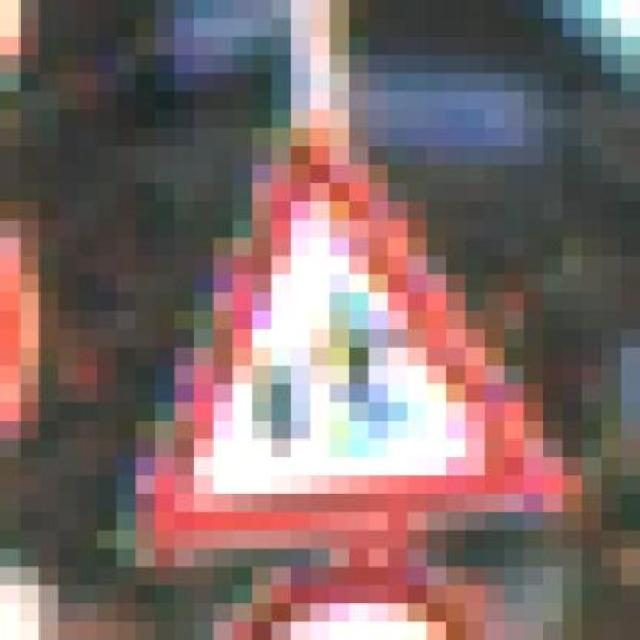Beware of children: (78, 128, 582, 549)
